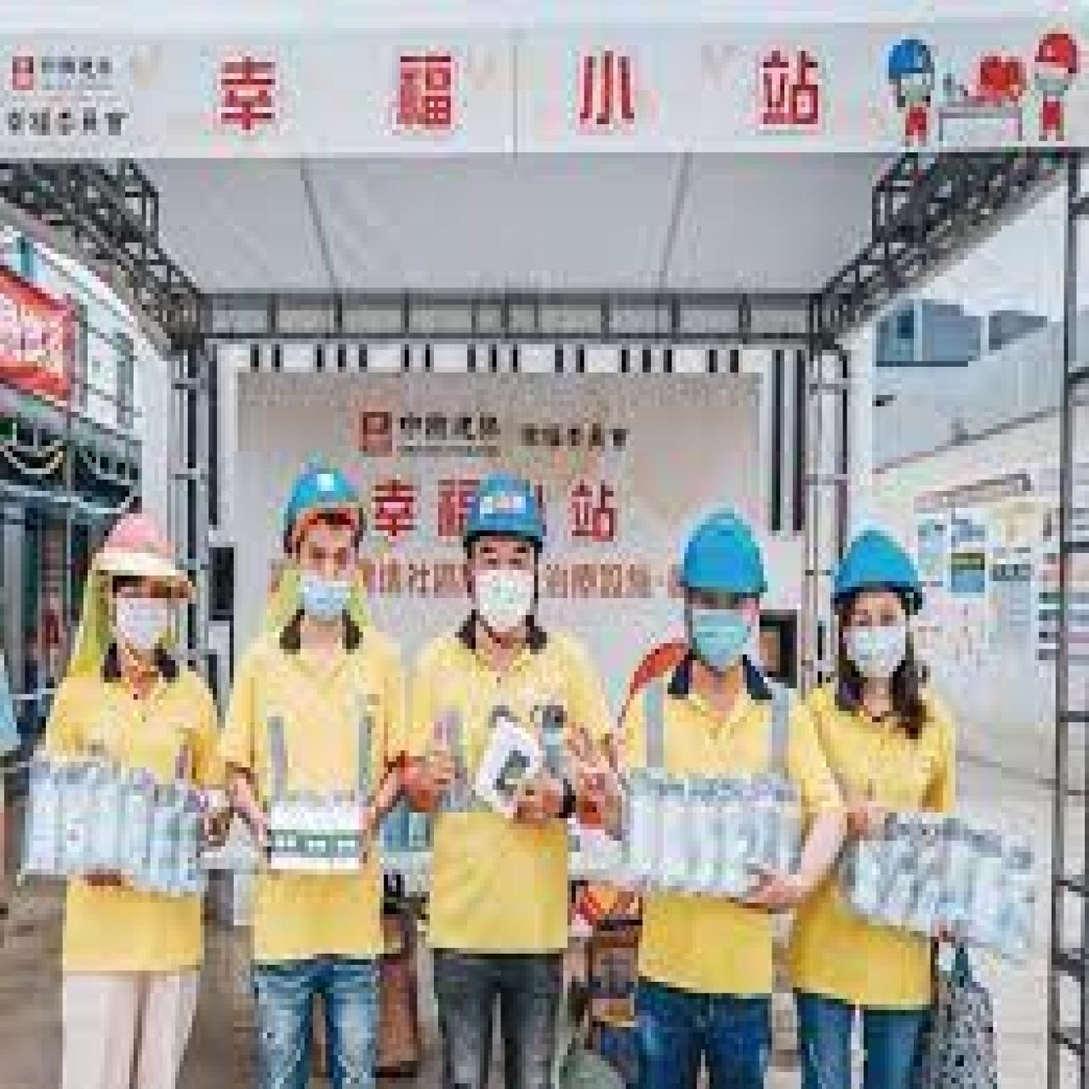NO_Safety_Vest: (620, 663, 818, 996), (234, 625, 416, 964), (422, 619, 587, 952), (798, 685, 959, 1020), (50, 671, 213, 962)
Person: (600, 496, 844, 1089), (395, 452, 618, 1089), (209, 450, 424, 1086), (25, 503, 229, 1089), (790, 520, 971, 1089)
